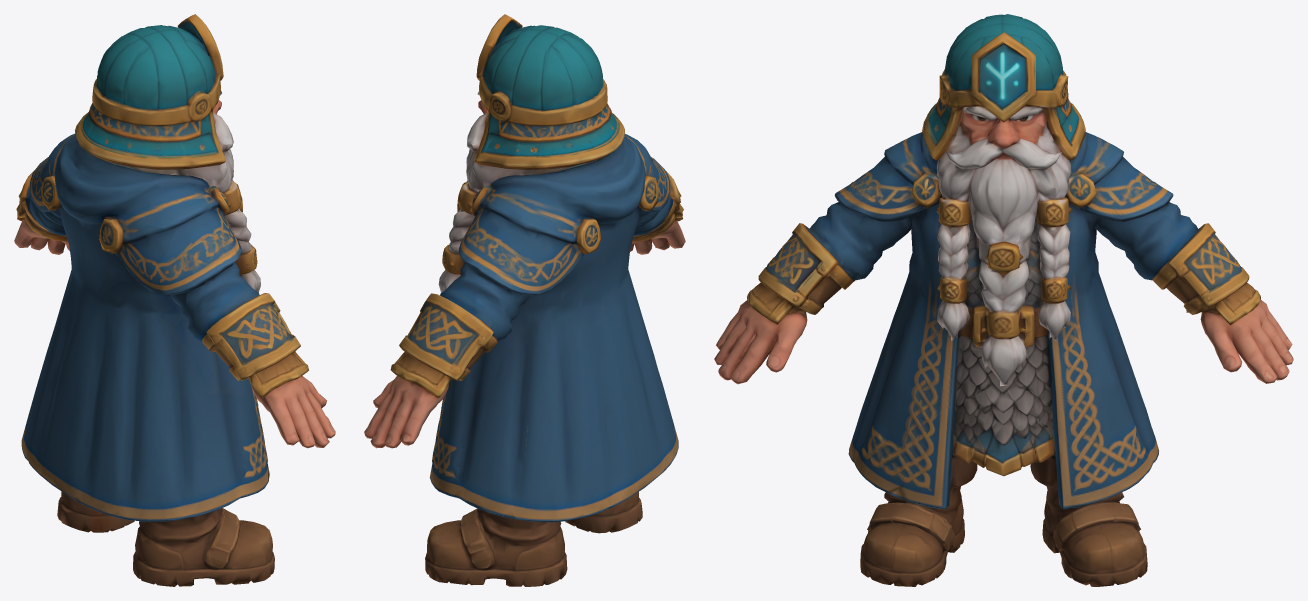
Rendered from dwarf_warden_raw.glb.
3 views of the same model, side by side, from view 1: azimuth 30°, elevation 25°; view 2: azimuth 150°, elevation 25°; view 3: azimuth 270°, elevation 25° (orthographic). The views are drawn at different scales.
Parts seen in each view (by area): view 1: tripo_node_7de1c975-4f06-490a-8d94-8290dfbf2090; view 2: tripo_node_7de1c975-4f06-490a-8d94-8290dfbf2090; view 3: tripo_node_7de1c975-4f06-490a-8d94-8290dfbf2090.
Part boxes in pixels (bbox=[...]): tripo_node_7de1c975-4f06-490a-8d94-8290dfbf2090: bbox=[14, 14, 335, 586]; tripo_node_7de1c975-4f06-490a-8d94-8290dfbf2090: bbox=[364, 14, 685, 586]; tripo_node_7de1c975-4f06-490a-8d94-8290dfbf2090: bbox=[714, 14, 1293, 586].
Size of the model in its own units: 0.3918 by 1 by 0.9704.
Materials: 1 (1 with a texture image).
